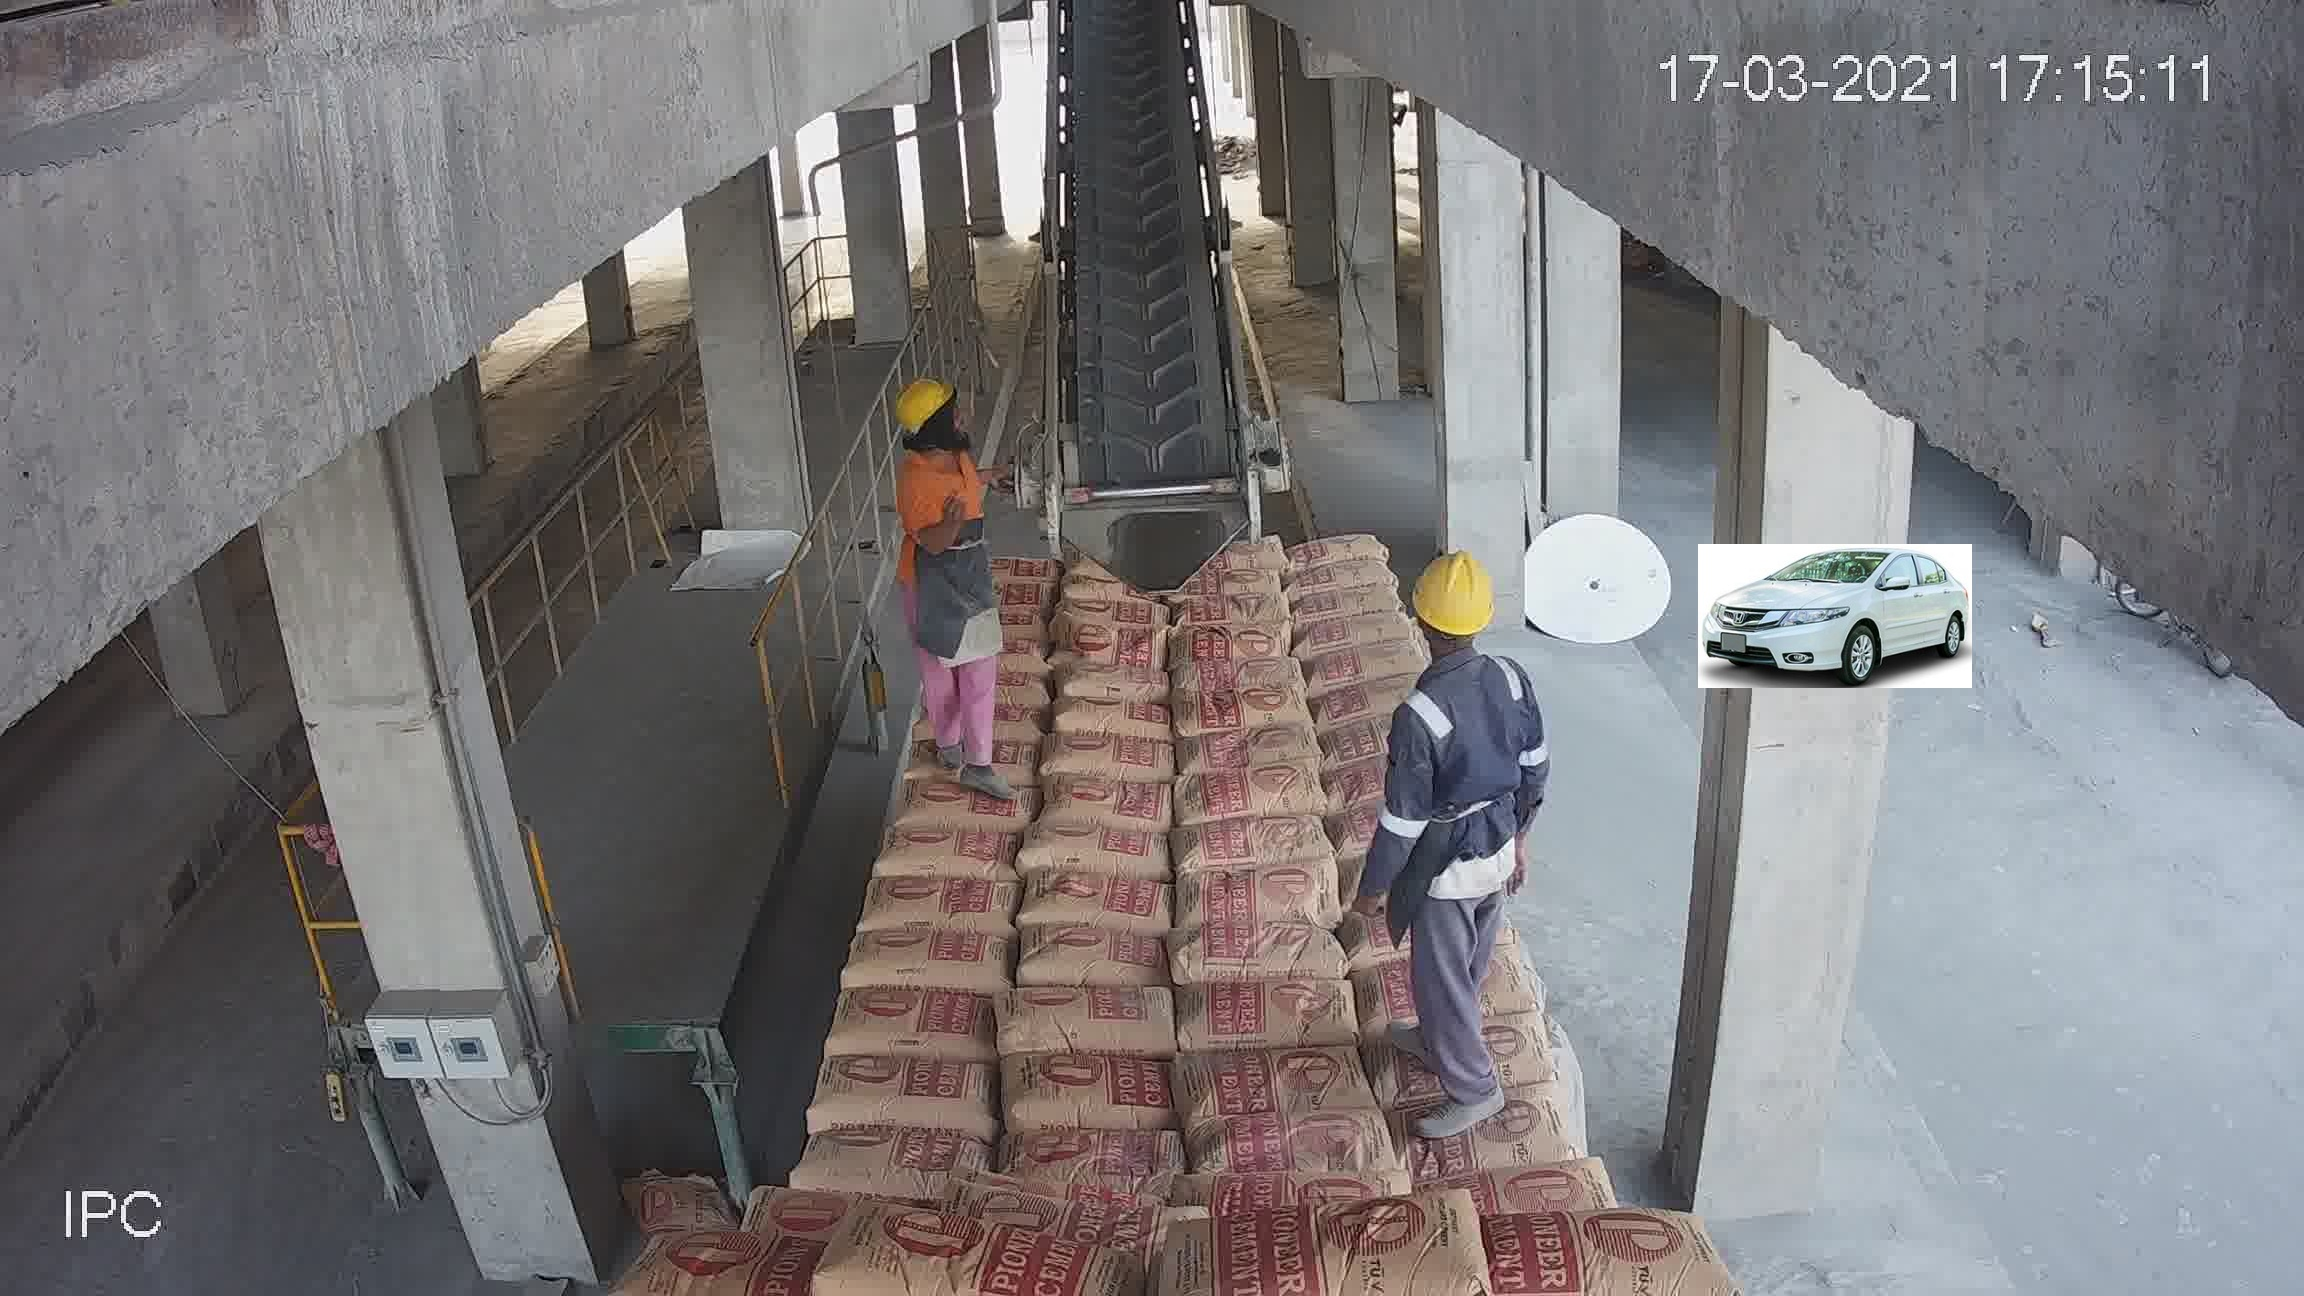bag_h: (1204, 1209, 1503, 1296), (804, 1218, 1119, 1296), (1443, 1211, 1703, 1293), (1396, 1086, 1581, 1180), (801, 1055, 1011, 1138), (1190, 1046, 1367, 1131), (1203, 1112, 1394, 1190), (1006, 1048, 1187, 1128), (638, 1226, 847, 1296), (1002, 987, 1188, 1063), (828, 980, 1003, 1059), (788, 1127, 1000, 1188), (1177, 980, 1361, 1051), (855, 872, 1030, 946), (1000, 1122, 1192, 1188), (1177, 862, 1337, 935), (839, 927, 1013, 994), (1174, 810, 1336, 880), (1179, 927, 1348, 991), (1438, 1163, 1609, 1225), (1182, 758, 1332, 826), (1024, 817, 1166, 885), (1022, 873, 1180, 932), (1014, 934, 1176, 991), (885, 785, 1040, 843), (870, 828, 1024, 885), (1043, 774, 1182, 836), (1169, 655, 1307, 704), (1179, 687, 1315, 734), (1302, 628, 1415, 685), (1184, 726, 1315, 774), (1051, 739, 1177, 786), (1060, 657, 1176, 707), (1067, 612, 1166, 671), (1054, 574, 1169, 620), (1301, 606, 1402, 658), (1054, 699, 1165, 745), (1169, 620, 1288, 663), (1305, 674, 1412, 720), (1188, 529, 1320, 563), (1296, 582, 1400, 625), (1171, 593, 1290, 628), (1179, 567, 1291, 601), (1290, 525, 1388, 565), (1291, 557, 1397, 593), (1046, 576, 1157, 609), (1060, 600, 1173, 631)
belt: (1036, 40, 1244, 533)
